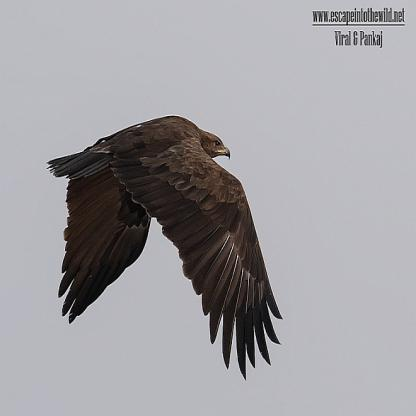Burung: (45, 115, 284, 383)
